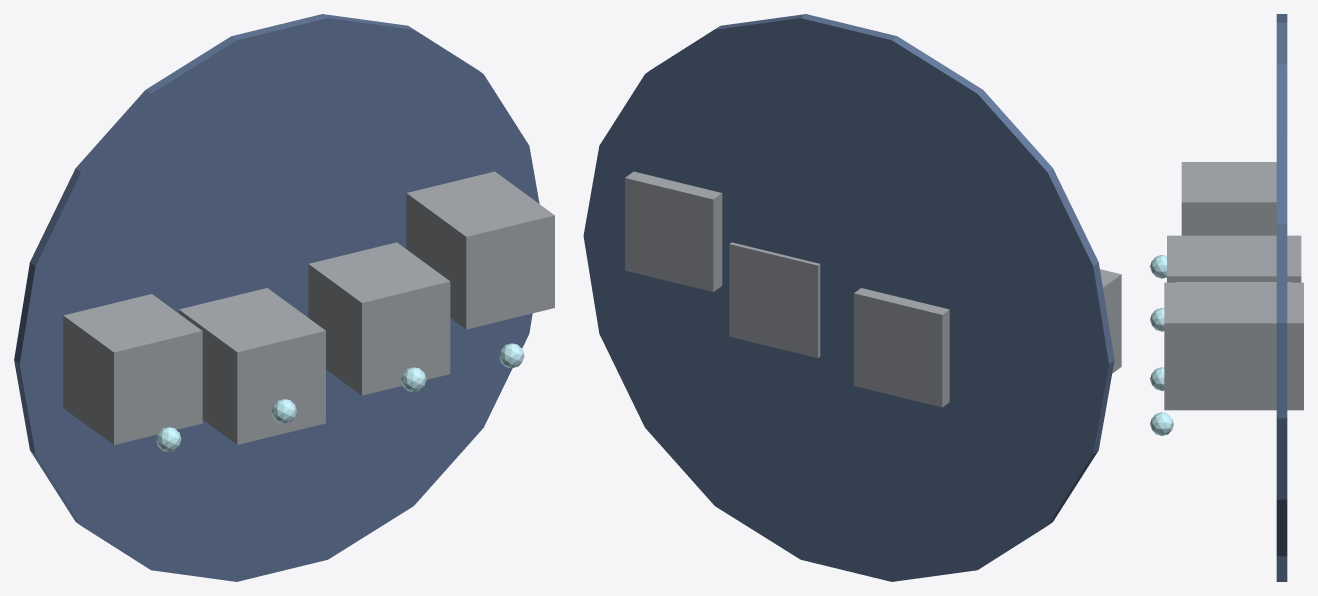
The model's file is 02_local_prop_cluster.glb.
3 views of the same model, side by side, from view 1: azimuth 30°, elevation 25°; view 2: azimuth 150°, elevation 25°; view 3: azimuth 270°, elevation 25° (orthographic). The views are drawn at different scales.
Visible parts, largest first — view 1: scatter_base, tech_crate_3, tech_crate_0, tech_crate_2, tech_crate_1; view 2: scatter_base, tech_crate_3, tech_crate_1, tech_crate_2, tech_crate_0; view 3: tech_crate_3, tech_crate_0, scatter_base, tech_crate_1, status_light_3, status_light_0, status_light_1, status_light_2.
Boxes of the visible parts, x1,y1,x2,y2 form: scatter_base: [14, 14, 539, 581]; tech_crate_3: [406, 171, 554, 329]; tech_crate_0: [63, 294, 202, 444]; tech_crate_2: [308, 242, 450, 395]; tech_crate_1: [179, 288, 325, 444]; scatter_base: [583, 14, 1114, 581]; tech_crate_3: [625, 171, 722, 291]; tech_crate_1: [854, 288, 949, 407]; tech_crate_2: [729, 242, 820, 358]; tech_crate_0: [1100, 269, 1121, 373]; tech_crate_3: [1164, 282, 1303, 410]; tech_crate_0: [1181, 162, 1276, 235]; scatter_base: [1276, 14, 1287, 581]; tech_crate_1: [1167, 235, 1301, 282]; status_light_3: [1150, 412, 1173, 435]; status_light_0: [1150, 255, 1166, 278]; status_light_1: [1150, 308, 1164, 331]; status_light_2: [1150, 367, 1164, 390].
Bounding box in the file's own units: 1.9 × 1.87 × 0.5129.
